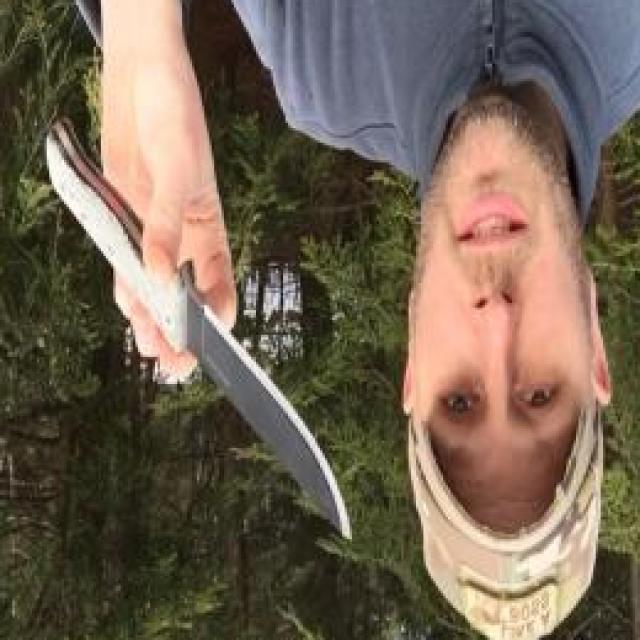knife: (128, 208, 359, 554)
